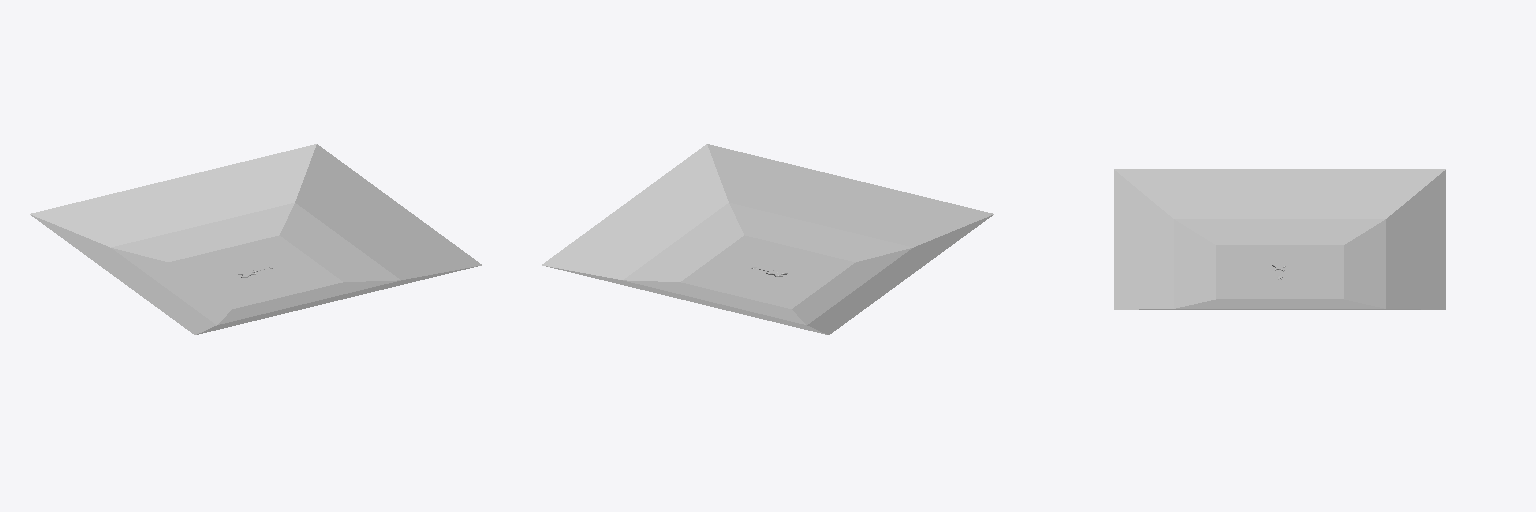
Rendered from guittar.obj.
3 renders of one model, left to right at view 1: azimuth 30°, elevation 25°; view 2: azimuth 150°, elevation 25°; view 3: azimuth 270°, elevation 25°, orthographic.
Visible parts, largest first — view 1: Plane02; view 2: Plane02; view 3: Plane02.
Boxes of the visible parts, x1=… form: Plane02: x1=30, y1=144, x2=481, y2=334; Plane02: x1=542, y1=144, x2=993, y2=334; Plane02: x1=1114, y1=169, x2=1445, y2=309.
Bounding box in the file's own units: 398 × 43.13 × 397.